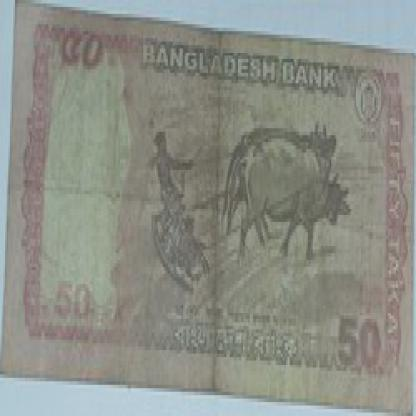Fifty taka: (331, 308, 396, 392), (57, 14, 110, 100)
